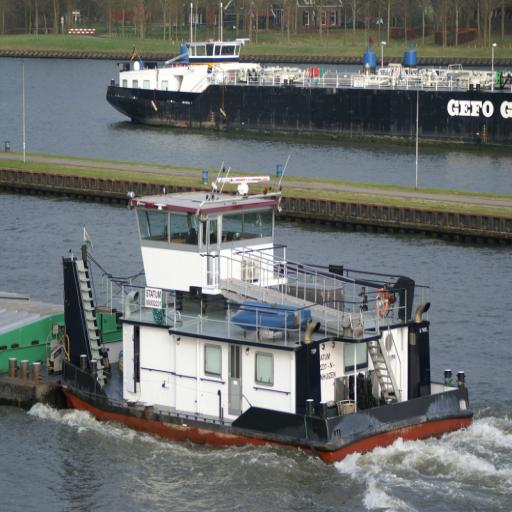tugboat: (55, 153, 479, 477)
